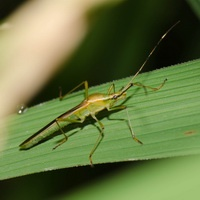insect: (19, 20, 179, 165)
